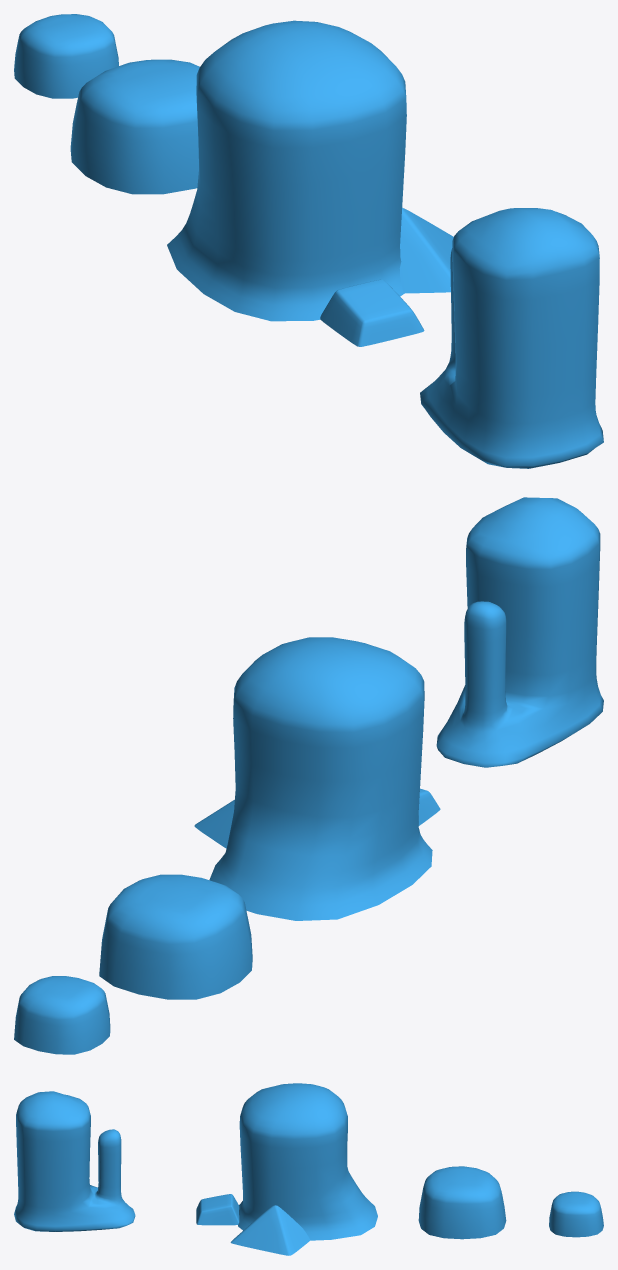
The model's file is Buttes OBJ (UV Mapped).obj.
The picture shows the model from 3 angles, top to bottom: view 1: azimuth 30°, elevation 25°; view 2: azimuth 150°, elevation 25°; view 3: azimuth 270°, elevation 25°; orthographic projection. The views are drawn at different scales.
Visible parts, largest first — view 1: Butte1, Butte2, Butte3, Butte4; view 2: Butte1, Butte2, Butte3, Butte4; view 3: Butte1, Butte2, Butte3, Butte4.
Boxes of the visible parts, <box> form: Butte1: <box>167,20,453,346</box>; Butte2: <box>420,208,603,468</box>; Butte3: <box>70,59,199,194</box>; Butte4: <box>14,14,118,98</box>; Butte1: <box>194,637,440,920</box>; Butte2: <box>436,497,603,767</box>; Butte3: <box>99,874,252,999</box>; Butte4: <box>14,976,110,1054</box>; Butte1: <box>196,1083,377,1255</box>; Butte2: <box>14,1091,135,1231</box>; Butte3: <box>418,1166,506,1239</box>; Butte4: <box>549,1191,603,1237</box>.
Bounding box in the file's own units: 16.27 × 15.02 × 62.94.
